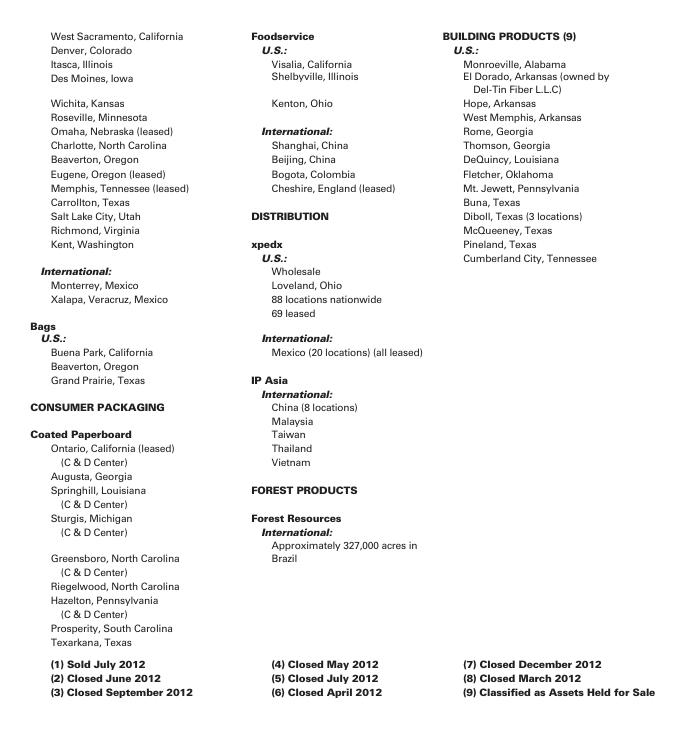table: (29, 28, 654, 697)
table column: (431, 28, 654, 697), (221, 28, 431, 697), (29, 28, 221, 697)
table column header: (29, 28, 654, 41)
table projected row header: (29, 634, 654, 652), (29, 358, 654, 372), (29, 468, 654, 482), (29, 496, 654, 510), (29, 564, 654, 578), (29, 578, 654, 592), (29, 592, 654, 606), (29, 606, 654, 620), (29, 620, 654, 634), (29, 318, 654, 331)
table row: (29, 69, 654, 95), (29, 538, 654, 564), (29, 634, 654, 652), (29, 652, 654, 670), (29, 41, 654, 56), (29, 179, 654, 194), (29, 207, 654, 222), (29, 235, 654, 250), (29, 95, 654, 109), (29, 109, 654, 123), (29, 123, 654, 137), (29, 137, 654, 151), (29, 151, 654, 165), (29, 165, 654, 179), (29, 263, 654, 277), (29, 277, 654, 291), (29, 291, 654, 305), (29, 344, 654, 358), (29, 358, 654, 372), (29, 372, 654, 386), (29, 386, 654, 400), (29, 426, 654, 440), (29, 440, 654, 454), (29, 454, 654, 468), (29, 468, 654, 482), (29, 482, 654, 496), (29, 496, 654, 510), (29, 510, 654, 524), (29, 524, 654, 538), (29, 564, 654, 578), (29, 578, 654, 592), (29, 592, 654, 606), (29, 606, 654, 620), (29, 620, 654, 634), (29, 670, 654, 684), (29, 28, 654, 41), (29, 56, 654, 69), (29, 194, 654, 207), (29, 222, 654, 235), (29, 250, 654, 263), (29, 305, 654, 318), (29, 318, 654, 331), (29, 331, 654, 344), (29, 400, 654, 413), (29, 413, 654, 426), (29, 684, 654, 697)
table spanning cell: (29, 235, 221, 263), (29, 372, 221, 400), (29, 291, 221, 318), (29, 400, 221, 426)
